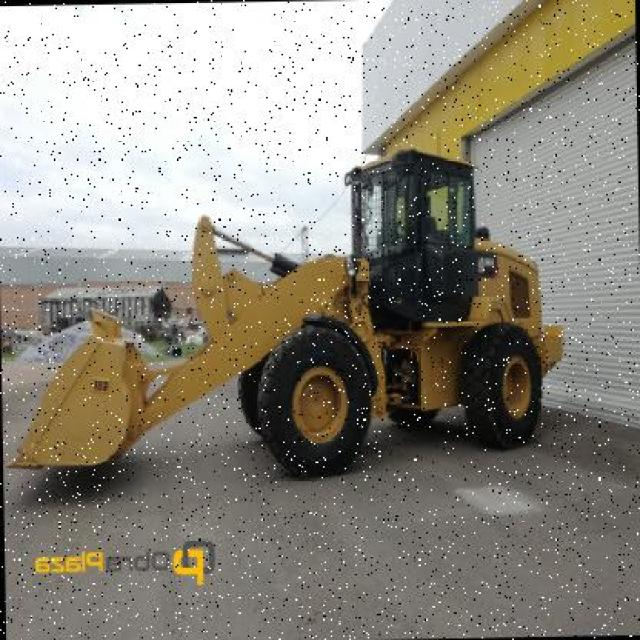buldozerpayloadergrader: (2, 133, 575, 504)
